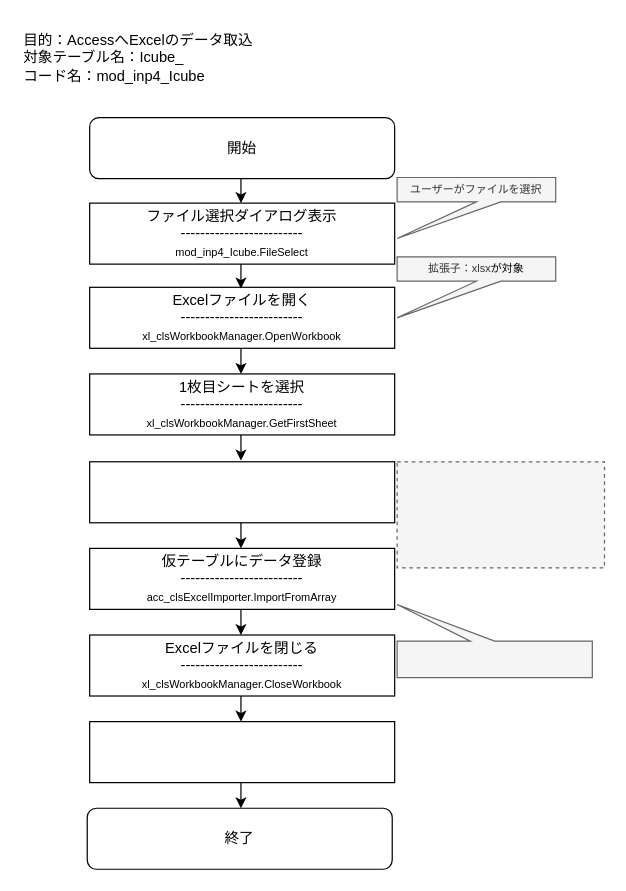
The diagram is 626 pixels wide and 891 high, and some of its shapes have lost their labels. Here are the shapes that lost their labels. From the top down, the centre of each, then its label:
At point (241, 492): "タイトル＆データ範囲を一括取得 ------------------------- xl_clsRangeAccessor.RangeToArray".
At point (500, 514): "仮テーブル登録まとめ タイトル ・5行目 ・B(2)列からEK(141)列 データ ・6行目からB列の最終行 ・列はタイトル同じ範囲".
At point (494, 640): "仮テーブルは事前に用意しておく テーブル名：Icube_Temp".
At point (241, 751): "取込完了メッセージ".
